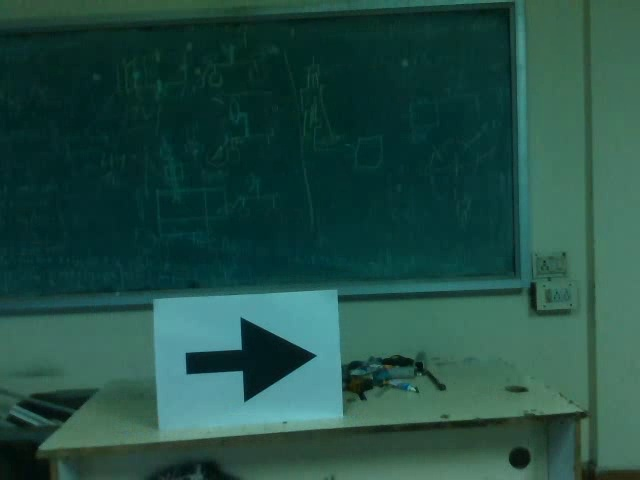Right: (182, 307, 317, 405)
